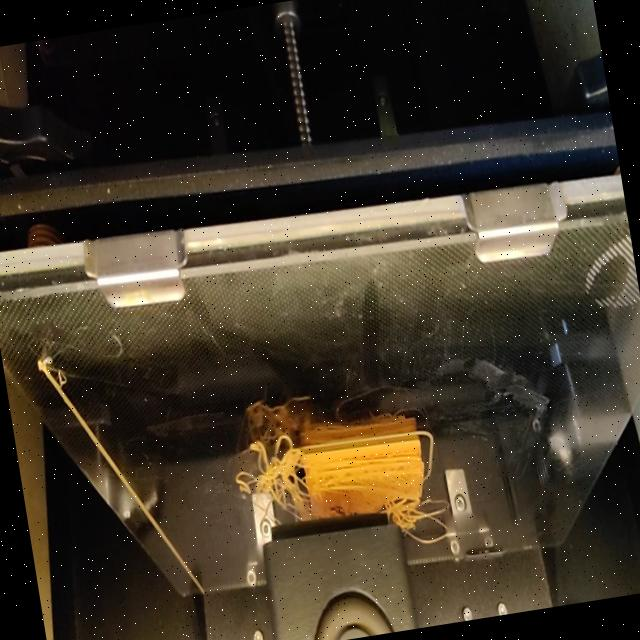spaghetti: (233, 434, 308, 527), (388, 488, 454, 557)
